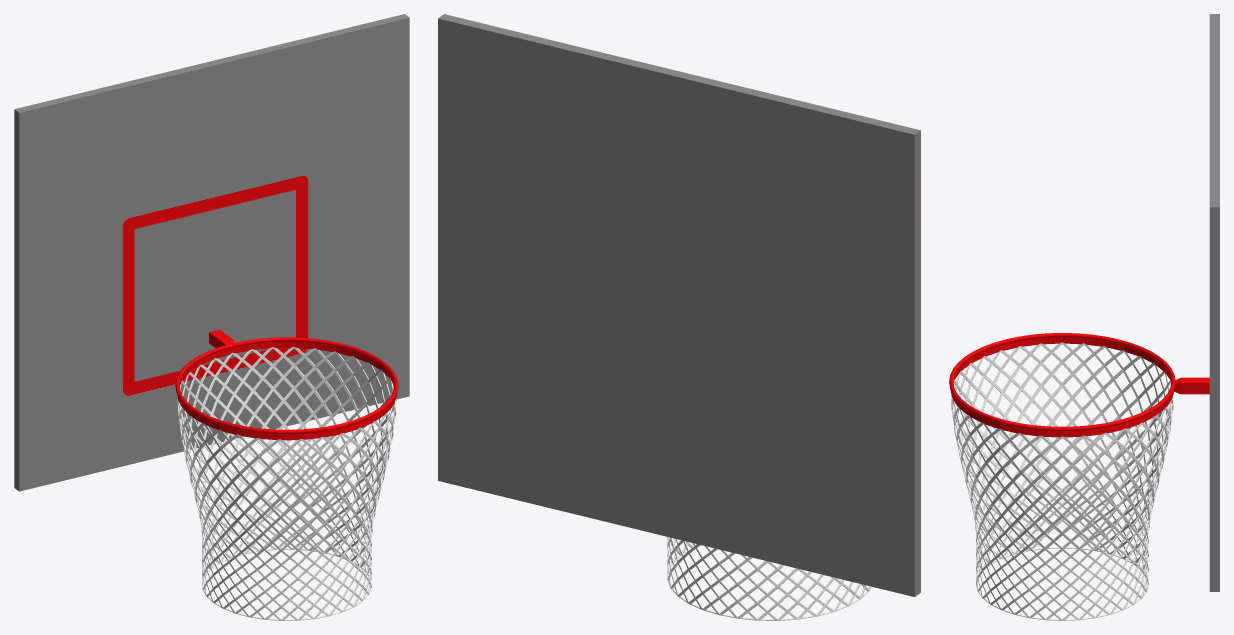
File: kosz.fbx
3 views of the same model, side by side, from view 1: azimuth 30°, elevation 25°; view 2: azimuth 150°, elevation 25°; view 3: azimuth 270°, elevation 25° (orthographic). The views are drawn at different scales.
Parts seen in each view (by area): view 1: Cube, Cylinder.001, Cylinder; view 2: Cube, Cylinder.001; view 3: Cylinder.001, Cube, Cylinder.
Boxes of the visible parts, x1=… form: Cube: x1=14, y1=14, x2=409, y2=491; Cylinder.001: x1=177, y1=346, x2=396, y2=620; Cylinder: x1=175, y1=337, x2=398, y2=440; Cube: x1=438, y1=14, x2=920, y2=596; Cylinder.001: x1=667, y1=537, x2=871, y2=620; Cylinder.001: x1=950, y1=342, x2=1173, y2=620; Cube: x1=1174, y1=14, x2=1219, y2=591; Cylinder: x1=949, y1=333, x2=1175, y2=437.
Bounding box in the file's own units: 409 × 467 × 242.
